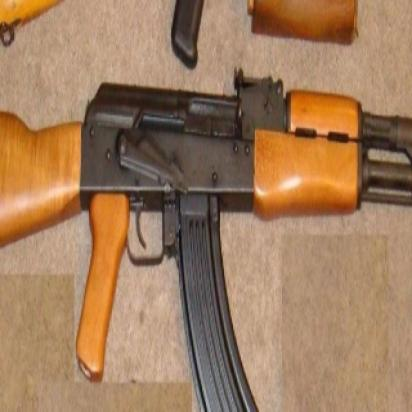Gun: (0, 58, 411, 393)
